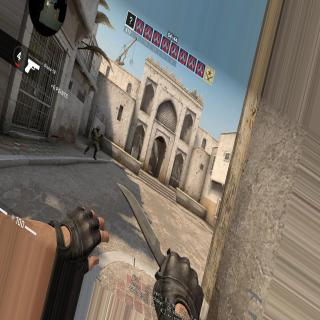CT-Body: (84, 124, 102, 161)
CT-Head: (96, 125, 100, 132)
